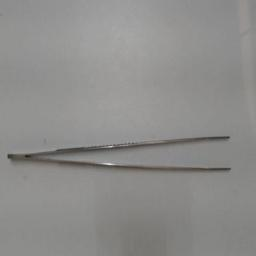DeBakey Dissector: (3, 124, 241, 180)
